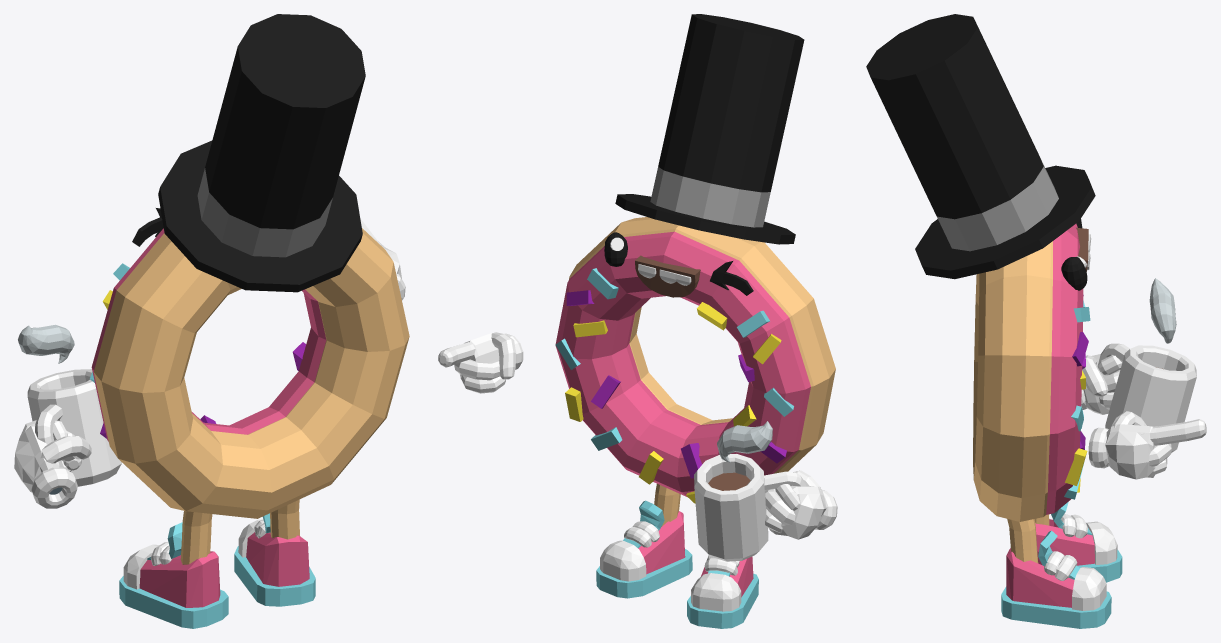
The model's file is scene_xE6k67kkXD.glb.
3 renders of one model, left to right at view 1: azimuth 30°, elevation 25°; view 2: azimuth 150°, elevation 25°; view 3: azimuth 270°, elevation 25°, orthographic. The views are drawn at different scales.
Visible parts, largest first — view 1: group2102767349; view 2: group2102767349; view 3: group2102767349.
Part boxes in pixels (box(x1,y1,x2,y2)): group2102767349: box(14, 14, 409, 628); group2102767349: box(438, 14, 837, 628); group2102767349: box(866, 14, 1206, 628).
Bounding box in the file's own units: 2.35 × 3.48 × 1.88.
